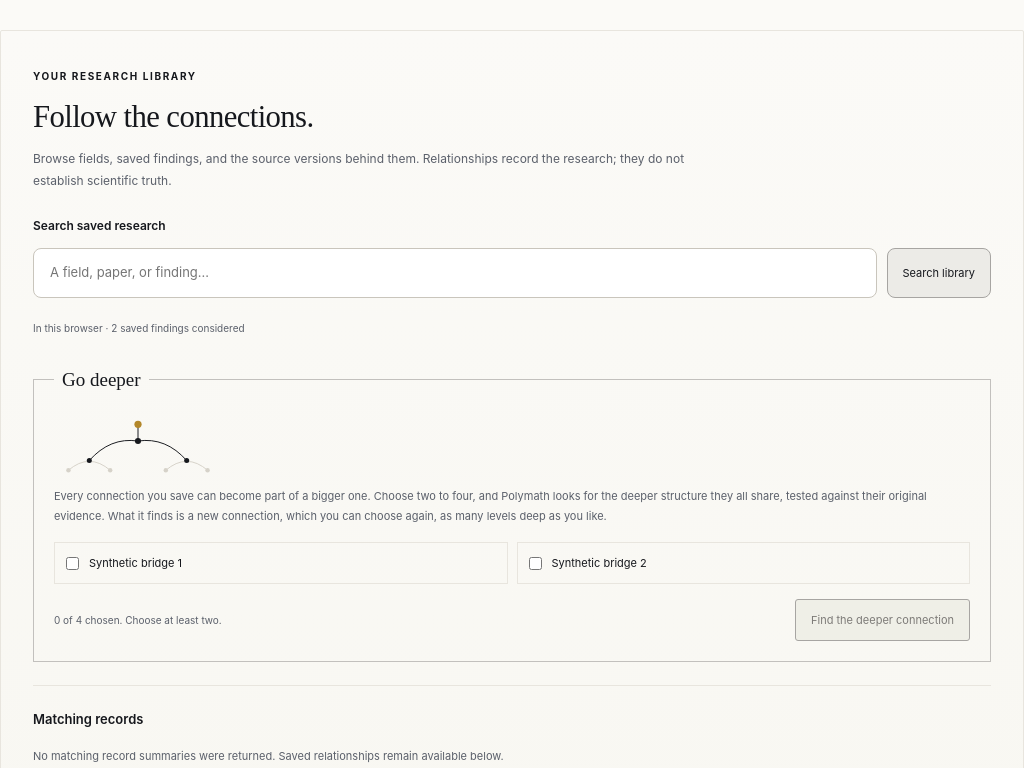
it: investigating connections between saved bridges › clears selections after capability loss, query changes, and expired sessions
Earlier steps of the test are not shown.
Click the checkbox named "Use connection: Synthetic bridge 1". click: click(72, 563)
box: 66,556 -> 79,570
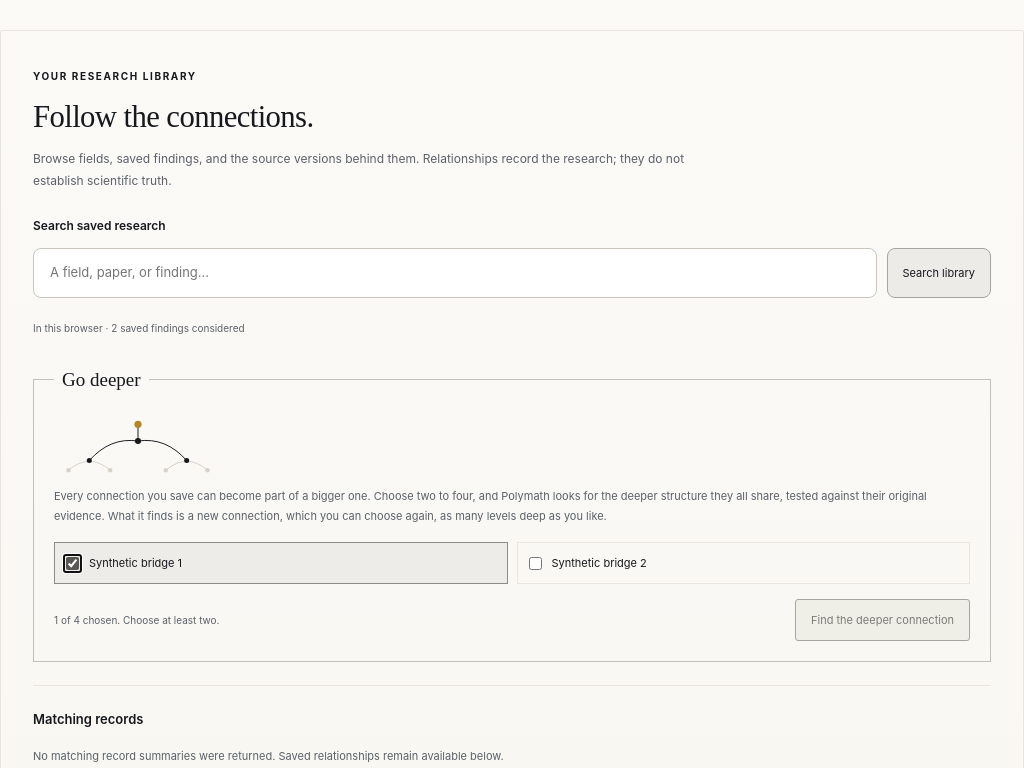
Type "Synthetic" into the search field. click: (455, 273)
box: 33,248 -> 876,298
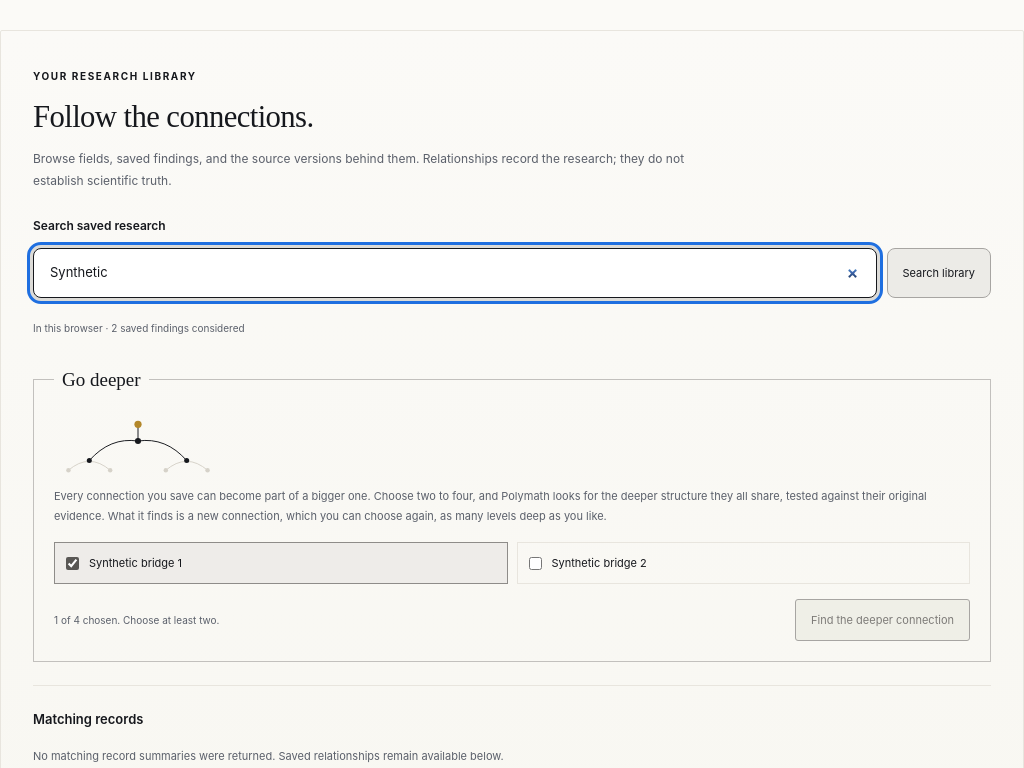
Click the button "Search library". click: click(939, 273)
box: 886,248 -> 991,298
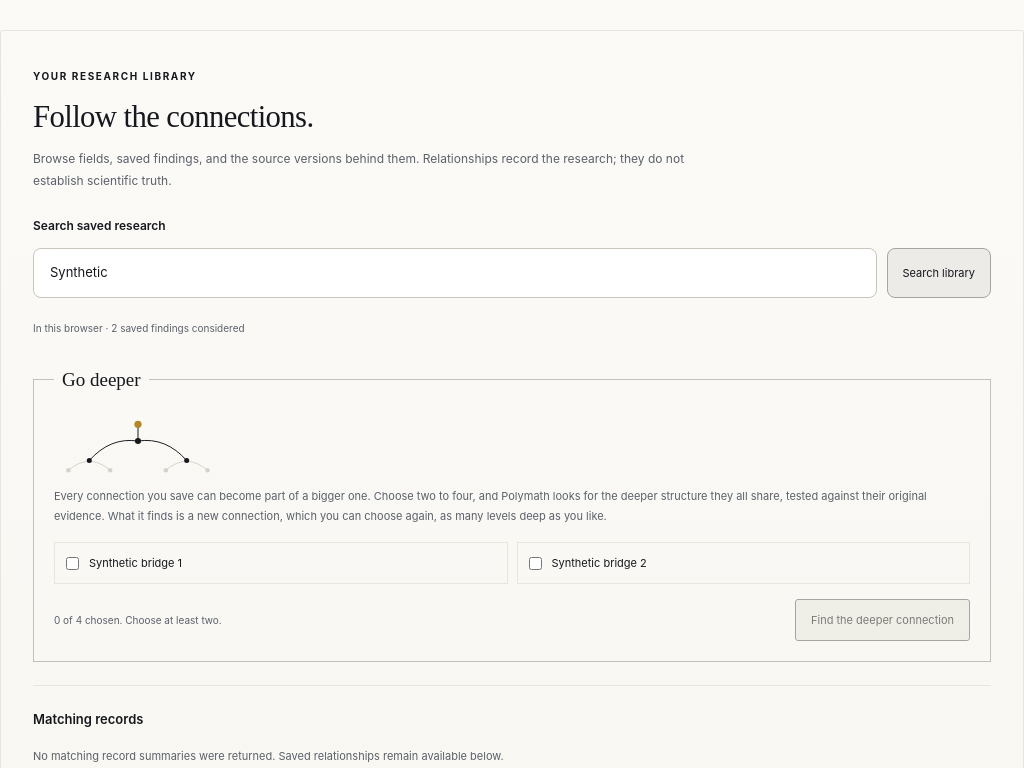
Expected: the checkbox named "Use connection: Synthetic bridge 1" is not checked
Click the checkbox named "Use connection: Synthetic bridge 1". click: click(72, 563)
box: 66,556 -> 79,570
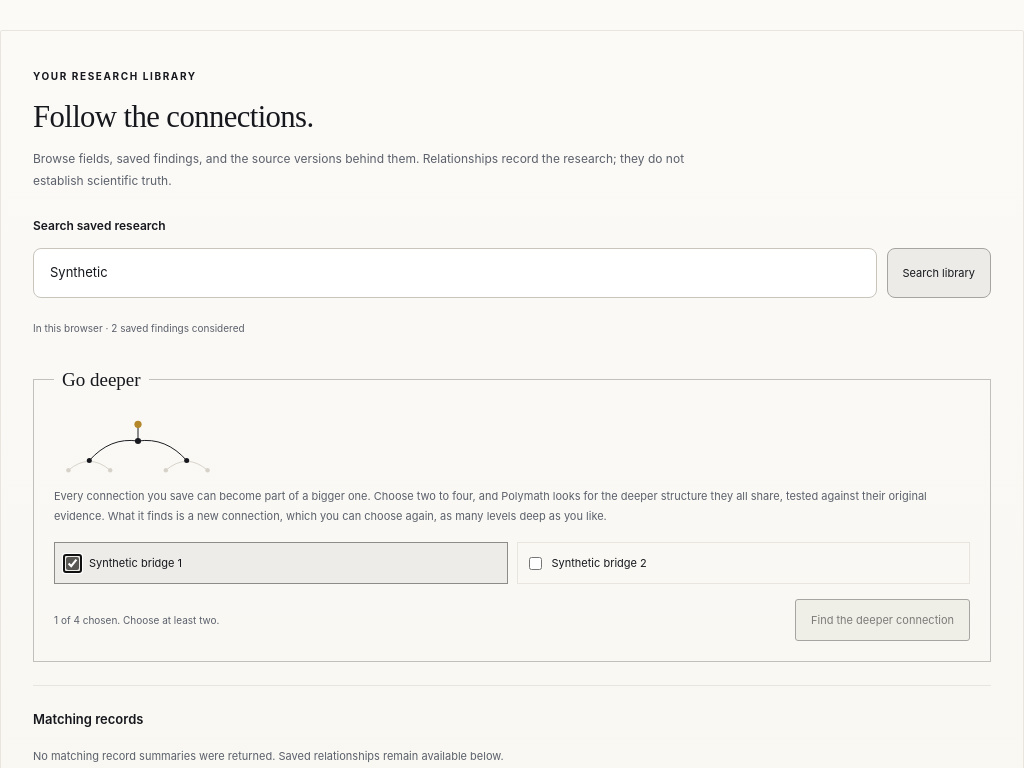
Click the button "Search library". click: click(939, 273)
box: 886,248 -> 991,298
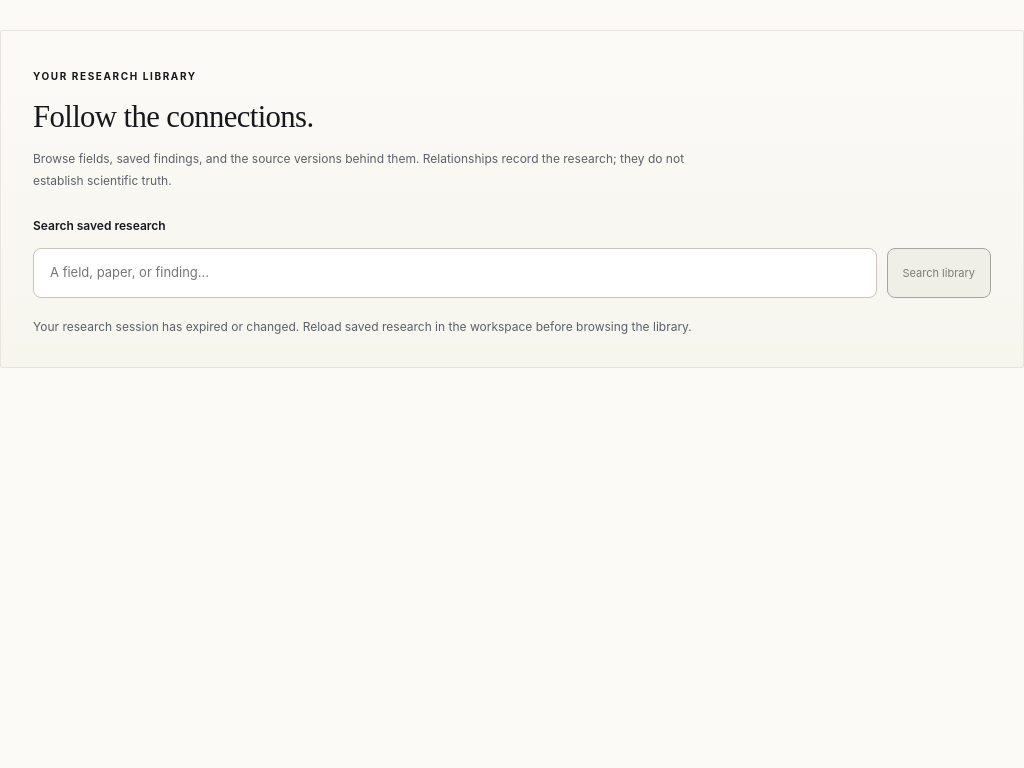
Expected: the text "session has expired or changed" is shown, 33,319 -> 692,334
Expected: the checkbox is gone
Expected: the button "Find the deeper connection" is gone
